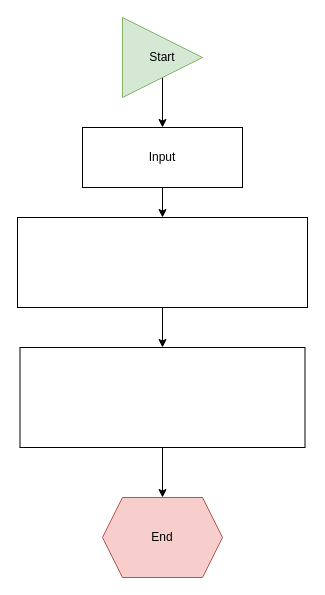
This 325x595 diagram has some shape labels left out. The box of each missing label's shape, as (x1, y1, x2, y2) in pixels:
For each para mostrar el Regex con un item.ToString: (19, 346, 305, 448)
Regex a Objeto IEnumerable<Match>: (16, 216, 308, 308)
